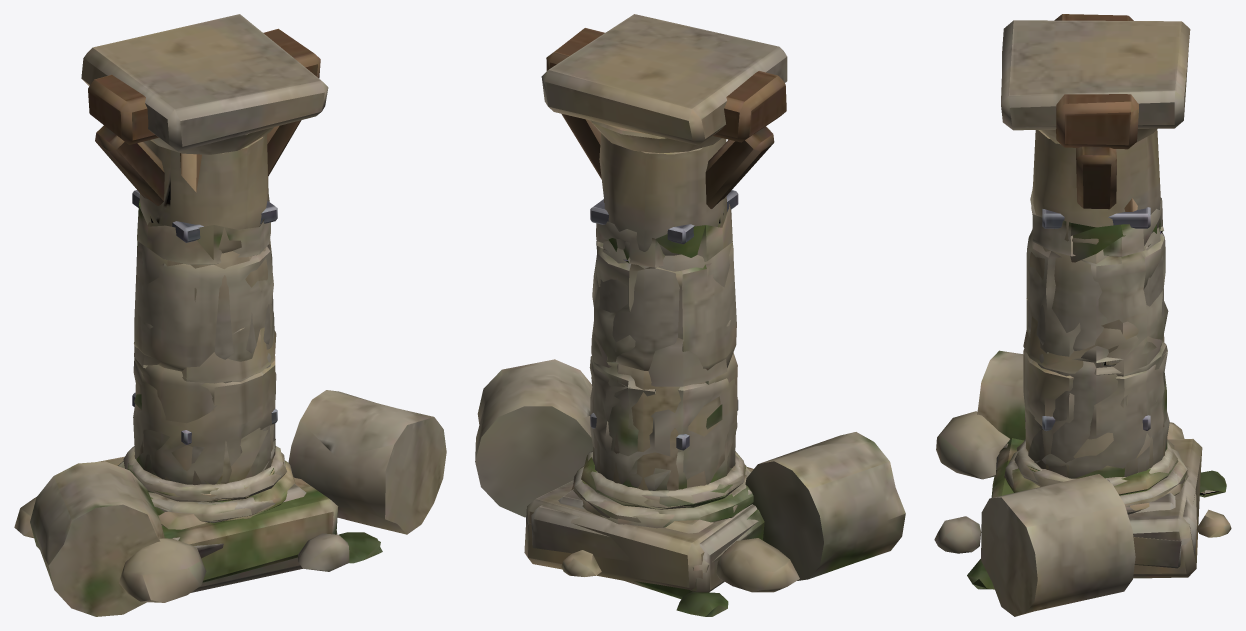
Rendered from env-columns.low.glb.
3 renders of one model, left to right at view 1: azimuth 30°, elevation 25°; view 2: azimuth 150°, elevation 25°; view 3: azimuth 270°, elevation 25°, orthographic.
Parts seen in each view (by area): view 1: column-moss, column-broken, column-intact, column-wood; view 2: column-intact, column-broken, column-moss, column-wood; view 3: column-broken, column-intact, column-moss, column-wood.
Part boxes in pixels (x1,y1,x2,y2): column-moss: (30, 199, 382, 616); column-broken: (14, 322, 446, 602); column-intact: (81, 14, 328, 521); column-wood: (88, 28, 320, 529); column-intact: (531, 14, 787, 592); column-broken: (475, 320, 799, 592); column-moss: (526, 204, 905, 616); column-wood: (546, 28, 786, 533); column-broken: (934, 298, 1231, 616); column-intact: (1001, 20, 1196, 555); column-moss: (967, 189, 1226, 589); column-wood: (1016, 14, 1175, 513).
Size of the model in its own units: 1.44 by 1.64 by 0.9055.
Materials: 1 (1 with a texture image).
